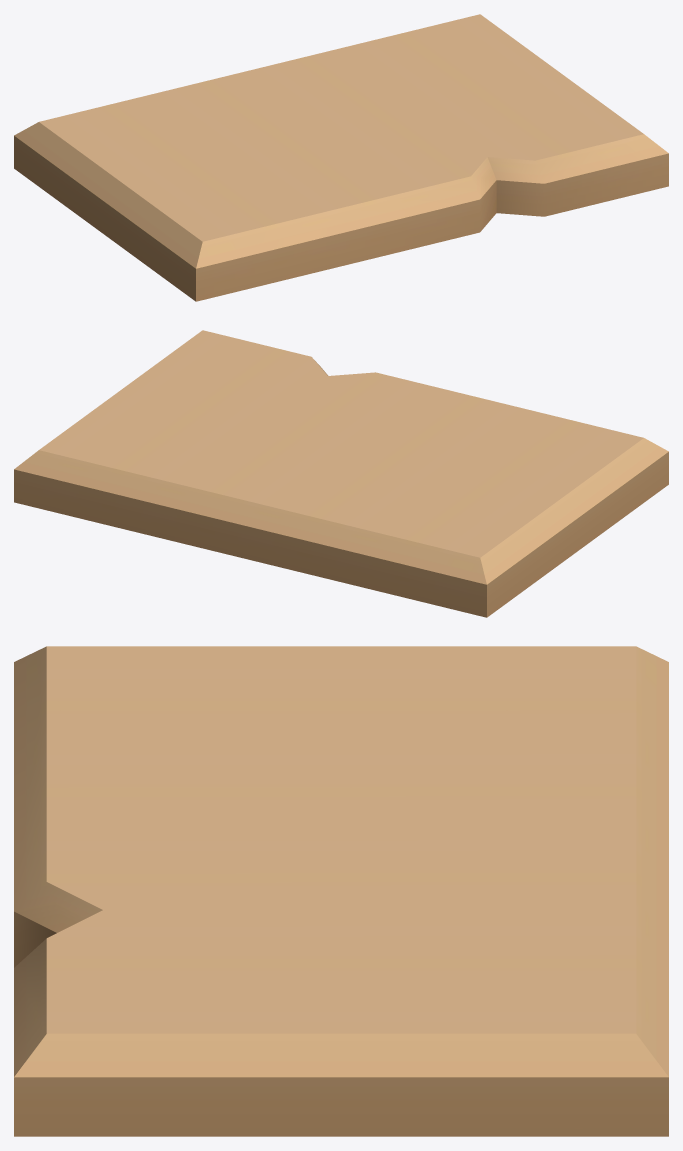
File: cuttingboard.glb
The picture shows the model from 3 angles, top to bottom: view 1: azimuth 30°, elevation 25°; view 2: azimuth 150°, elevation 25°; view 3: azimuth 270°, elevation 25°; orthographic projection. The views are drawn at different scales.
Parts seen in each view (by area): view 1: cuttingboard; view 2: cuttingboard; view 3: cuttingboard.
Boxes of the visible parts, x1,y1,x2,y2 form: cuttingboard: [14, 14, 668, 301]; cuttingboard: [14, 330, 668, 617]; cuttingboard: [14, 646, 668, 1136].
Bounding box in the file's own units: 1.5 × 0.15 × 1.
Materials: 1 (1 with a texture image).
